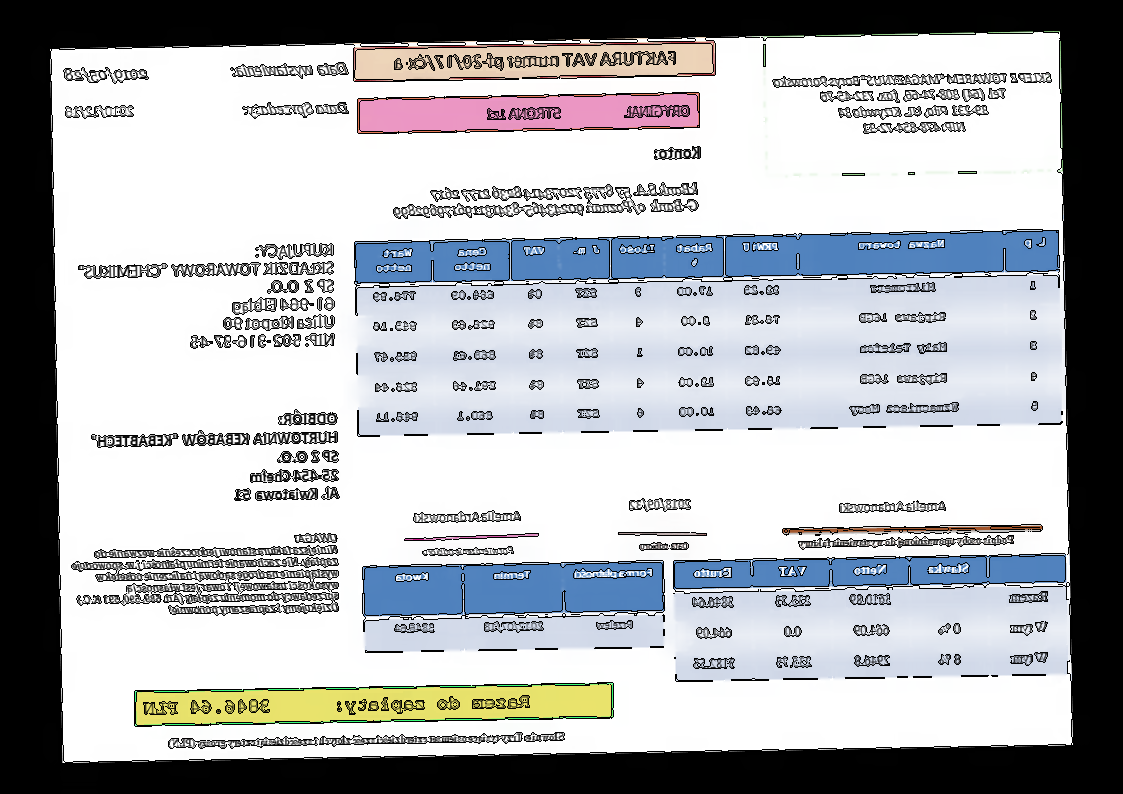Table: (353, 228, 1065, 437), (674, 552, 1070, 682), (362, 560, 666, 653)
TextBox: (75, 240, 339, 353), (88, 408, 341, 506), (69, 530, 342, 618), (771, 69, 1054, 137), (390, 180, 701, 221), (142, 693, 532, 719), (167, 729, 566, 750), (391, 48, 679, 73), (484, 102, 691, 123), (798, 532, 1016, 550), (230, 58, 349, 81), (241, 99, 351, 119), (838, 498, 947, 515), (63, 64, 151, 85), (413, 509, 523, 524), (421, 544, 516, 558), (64, 103, 136, 119), (629, 496, 693, 513), (654, 143, 703, 162), (640, 540, 691, 552)
